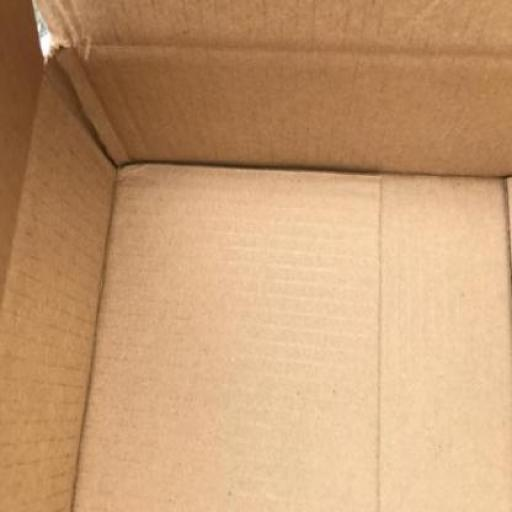cardboard: (0, 0, 511, 511), (69, 160, 511, 511)
